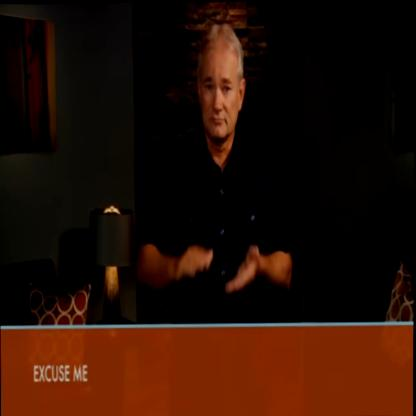ExcuseMe: (125, 1, 295, 325)
